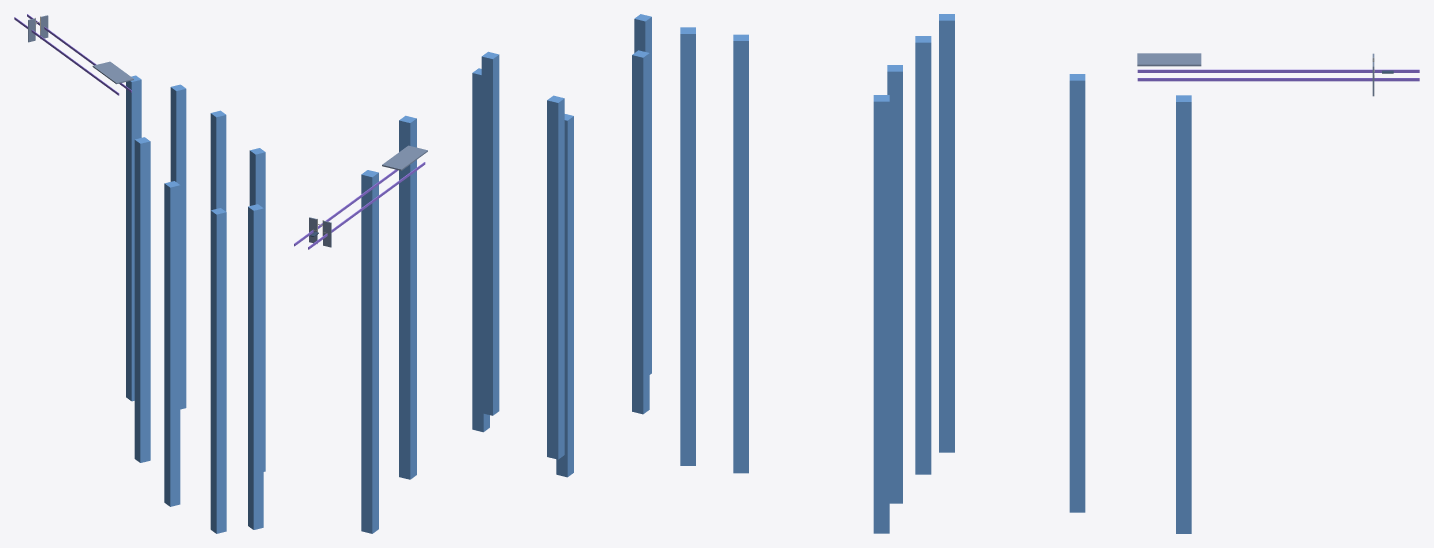
File: LEVRL.fbx
3 renders of one model, left to right at view 1: azimuth 30°, elevation 25°; view 2: azimuth 150°, elevation 25°; view 3: azimuth 270°, elevation 25°, orthographic. The views are drawn at different scales.
Visible parts, largest first — view 1: Cube__4_, Cube__5_, Cube__7_, Cube__6_, Cube__1_, Cube, Cube__2_, Cube__3_, plane_2__28_, plane_1__2_; view 2: Cube__3_, Cube__7_, Cube__5_, Cube__1_, Cube, Cube__4_, Cube__2_, Cube__6_, plane_2__28_, plane_1__2_; view 3: Cube, Cube__2_, Cube__3_, Cube__7_, Cube__1_, Cube__5_, Cube__6_, Cube__4_, plane_1__1_, plane_1__2_, plane_2__28_.
Boxes of the visible parts, x1,y1,x2,y2 form: Cube__4_: (164,181,180,506); Cube__5_: (134,137,150,462); Cube__7_: (210,208,226,533); Cube__6_: (248,204,263,529); Cube__1_: (126,75,141,401); Cube: (170,84,186,409); Cube__2_: (249,148,265,471); Cube__3_: (210,110,226,211); plane_2__28_: (92,61,133,84); plane_1__2_: (14,17,119,95); Cube__3_: (481,51,499,415); Cube__7_: (632,50,649,414); Cube__5_: (547,95,564,459); Cube__1_: (361,170,378,533); Cube: (399,115,416,479); Cube__4_: (556,114,573,477); Cube__2_: (472,68,489,432); Cube__6_: (634,14,651,374); plane_2__28_: (382,145,427,170); plane_1__2_: (308,162,425,249); Cube: (1069,74,1085,512); Cube__2_: (873,95,889,533); Cube__3_: (915,36,931,474); Cube__7_: (733,34,748,473); Cube__1_: (1176,95,1191,533); Cube__5_: (939,14,954,452); Cube__6_: (680,27,695,465); Cube__4_: (887,65,902,503); plane_1__1_: (1137,78,1419,81); plane_1__2_: (1137,69,1419,72); plane_2__28_: (1137,53,1201,66).
Bounding box in the file's own units: 4888 × 17011 × 22885.
